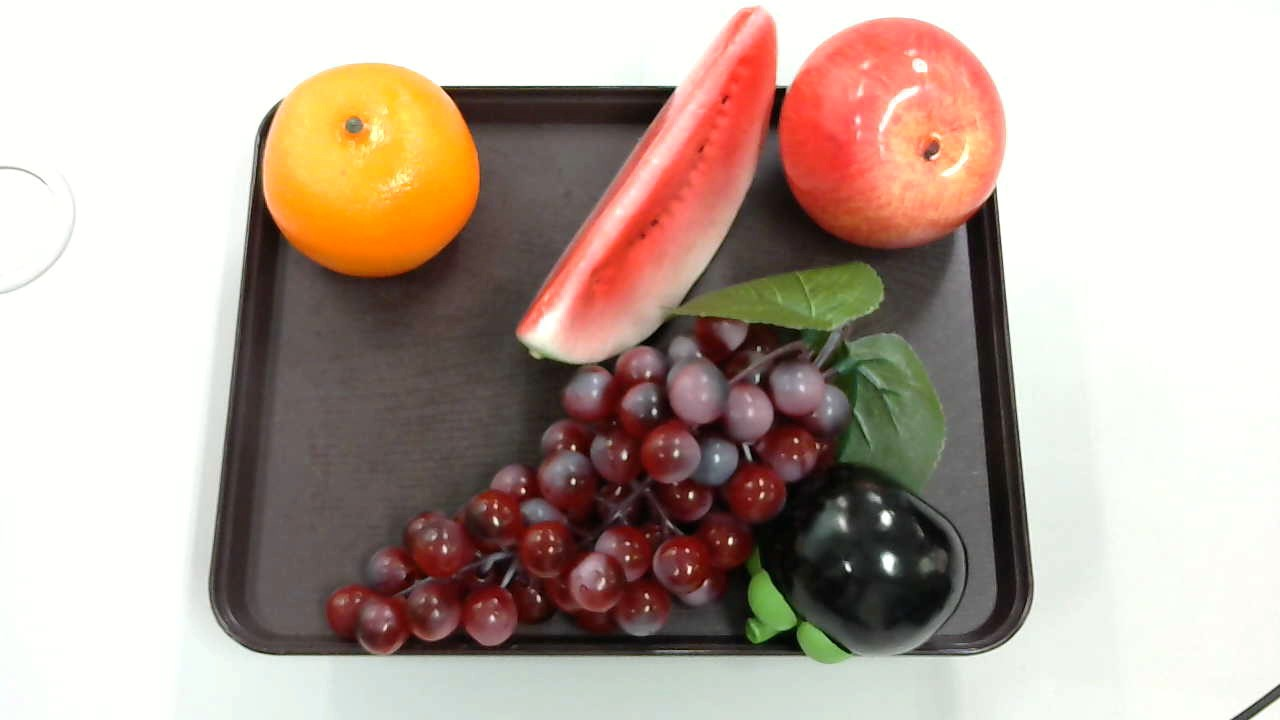grape: (319, 251, 945, 651)
mangosteen: (747, 460, 975, 669)
orange: (258, 60, 484, 281)
red apple: (784, 18, 1012, 244)
water melon: (509, 5, 786, 362)
